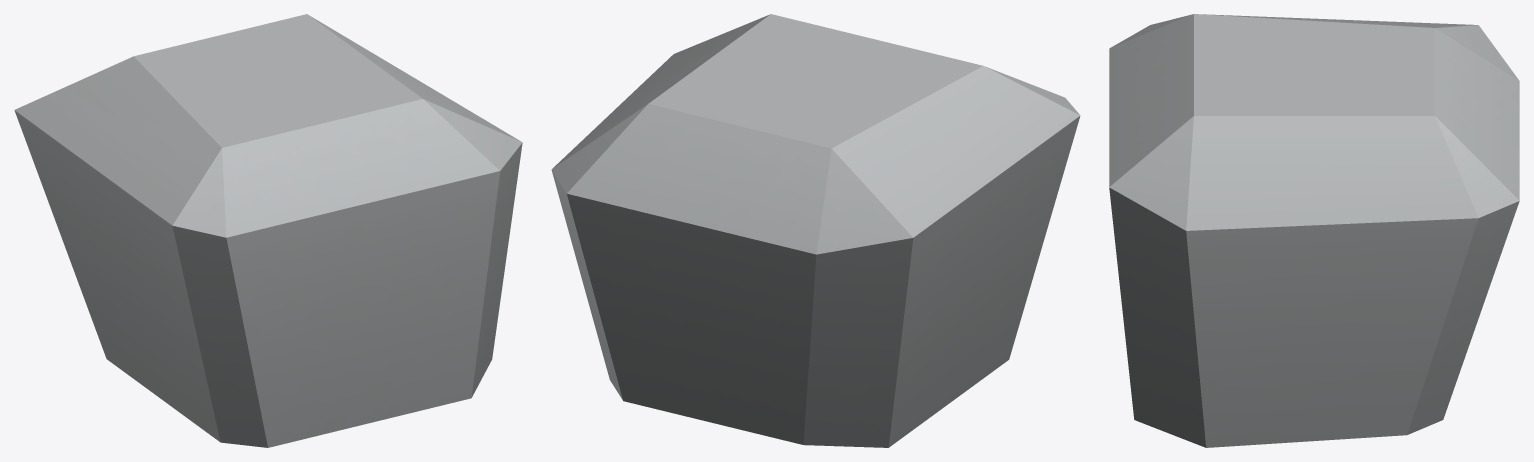
Rendered from stone_1.fbx.
3 renders of one model, left to right at view 1: azimuth 30°, elevation 25°; view 2: azimuth 150°, elevation 25°; view 3: azimuth 270°, elevation 25°, orthographic. The views are drawn at different scales.
Visible parts, largest first — view 1: stone_1; view 2: stone_1; view 3: stone_1.
Boxes of the visible parts, box(x1,y1,x2,y2) form: stone_1: box(14, 14, 522, 447); stone_1: box(551, 14, 1080, 447); stone_1: box(1109, 14, 1519, 447).
Bounding box in the file's own units: 1.22 × 0.9 × 1.14.
